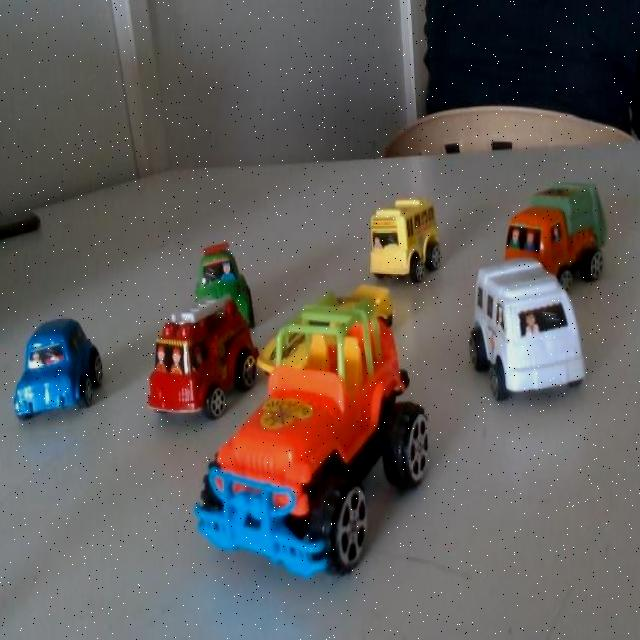car: (186, 393, 335, 580), (0, 304, 106, 445), (463, 268, 577, 391), (256, 288, 367, 395), (139, 299, 228, 432), (492, 177, 588, 292), (180, 245, 244, 333), (360, 193, 420, 280)
